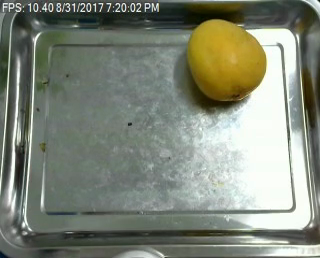Mango: (185, 18, 268, 102)
